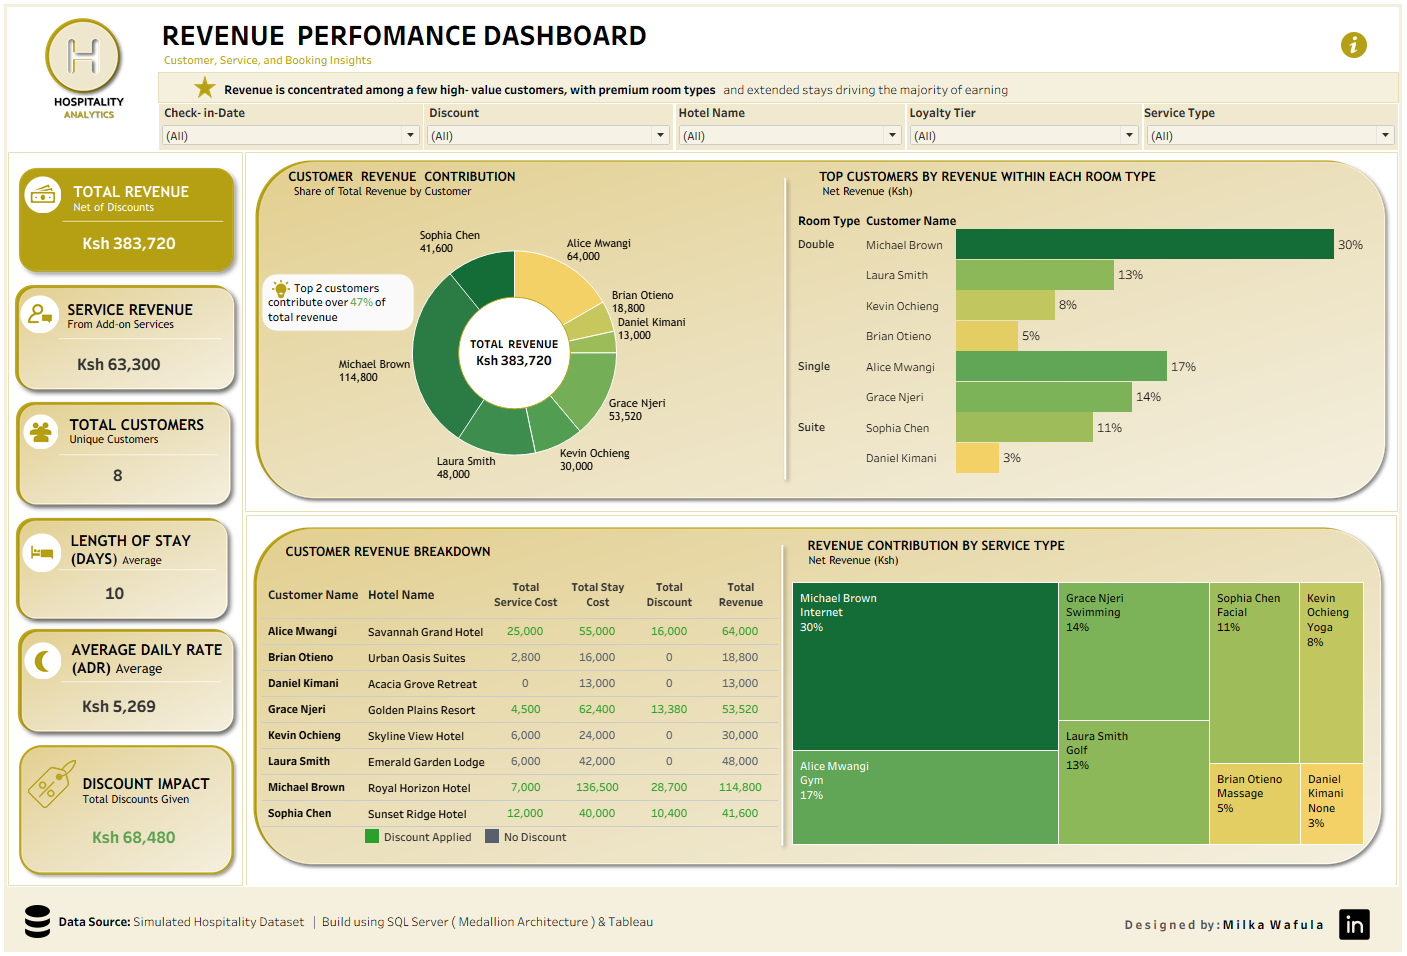

The dashboard page shown, as its layout file describes it:
{"tool":"tableau","page":{"name":"Hospitality Dashboard","canvas":[1400,950],"ordinal":1},"visuals":[{"type":"blank","box":[4,4,1392,64.6]},{"type":"text","box":[156,8,1155,61]},{"type":"image","param":"Image/Picture75678901.png","box":[12,13,148,111]},{"type":"worksheet","title":"Info Icon","mark":"Shape","box":[1321,15,60,53]},{"type":"blank","box":[154.8,68.6,1241.2,31.4]},{"type":"image","param":"Image/Picture45678901.png","box":[185,72,33,23]},{"type":"text","box":[167,75,1007,22]},{"type":"filter","title":"Billings","param":"[federated.0ehxdhk00tl66i1eyxm2z0nu6s2d].[md:check_in_date:ok]","box":[154.8,100,265.5,48]},{"type":"filter","title":"Billings","param":"[federated.0ehxdhk00tl66i1eyxm2z0nu6s2d].[none:Calculation_1594629248040964:nk]","box":[420.3,100,251.5,48]},{"type":"filter","title":"Billings","param":"[federated.0ehxdhk00tl66i1eyxm2z0nu6s2d].[none:hotel_name:nk]","box":[671.8,100,231.3,48]},{"type":"filter","title":"Billings","param":"[federated.0ehxdhk00tl66i1eyxm2z0nu6s2d].[none:loyalty_tier:nk]","box":[903.1,100,237.3,48]},{"type":"filter","title":"Billings","param":"[federated.0ehxdhk00tl66i1eyxm2z0nu6s2d].[none:service_type:nk]","box":[1140.5,100,255.6,48]},{"type":"blank","box":[4,117.2,150.8,30.9]},{"type":"image","param":"Image/Picture1221we.png","box":[250,142,1139,373]},{"type":"blank","box":[4,148,237.2,736.4]},{"type":"blank","box":[241.2,148,1154.8,361.6]},{"type":"image","param":"Image/0ok.png","box":[13,153,226,133]},{"type":"worksheet","title":"Final Distribution","mark":"Pie","cols":["Calculation_1399191675400195","Calculation_1399191675420677"],"box":[254,162,515,332]},{"type":"worksheet","title":"Room Type Rev","mark":"Automatic","rows":["room_type","customer_name"],"box":[789,162,595,308]},{"type":"image","param":"Image/45.png","box":[19,173,41,37]},{"type":"text","box":[68,173,152,45]},{"type":"worksheet","title":"Total Revenue","mark":"Automatic","box":[39,216,172,49]},{"type":"image","param":"Image/drth.png","box":[9,272,231,131]},{"type":"image","param":"Image/BMEW.svg","box":[264,275,29,22]},{"type":"image","param":"Image/458.png","box":[17,291,39,41]},{"type":"text","box":[62,291,172,44]},{"type":"worksheet","title":"Service Revenue","mark":"Automatic","box":[40,338,152,47]},{"type":"image","param":"Image/drth.png","box":[10,381,226,145]},{"type":"text","box":[64,403,166,50]},{"type":"image","param":"Image/Picture334568.png","box":[18,411,40,35]},{"type":"worksheet","title":"Total Guests","mark":"Automatic","box":[53,451,124,42]},{"type":"image","param":"Image/drth.png","box":[10,488,223,160]},{"type":"blank","box":[241.2,509.6,1154.8,374.9]},{"type":"text","box":[65,517,162,60]},{"type":"image","param":"Image/Picture1221we.png","box":[248,522,1137,417]},{"type":"image","param":"Image/Picture6569.png","box":[19,530,39,39]},{"type":"worksheet","title":"Service Type Rev","mark":"Automatic","box":[785,531,579,315]},{"type":"worksheet","title":"Billings","mark":"Automatic","rows":["customer_name","hotel_name"],"box":[259,537,516,287]},{"type":"worksheet","title":"AVG Stay days","mark":"Automatic","box":[50,569,125,43]},{"type":"image","param":"Image/drth.png","box":[12,601,227,158]},{"type":"text","box":[66,633,171,47]},{"type":"image","param":"Image/4512.png","box":[21,638,37,39]},{"type":"worksheet","title":"AVG Stay Rate","mark":"Automatic","box":[54,682,125,43]},{"type":"image","param":"Image/tyu68.png","box":[14,740,223,137]},{"type":"image","param":"Image/yuiokhsn.svg","box":[25,753,48,56]},{"type":"text","box":[77,755,149,65]},{"type":"worksheet","title":"DISCOUNTS","mark":"Automatic","box":[52,808,159,53]},{"type":"legend","title":"Billings","param":"[federated.0ehxdhk00tl66i1eyxm2z0nu6s2d].[none:Calculation_1594629248040964:nk]","box":[359,823,388,21]},{"type":"blank","box":[4,884.4,1392,61.6]},{"type":"text","box":[53,897,694,42]},{"type":"text","box":[1119,899,229,44]},{"type":"image","param":"Image/database-svgrepo-com.svg","box":[16,902,37,33]},{"type":"image","param":"Image/linkedin-logo-fill-svgrepo-com.svg","box":[1326,902,51,39]}]}

Visuals, with their boxes in screenshot pixels (x1, y1, x2, y2), scaled from the page's 1400x950 canvas onto the 1407x956 screenshot:
blank: <bbox>4, 4, 1403, 69</bbox>
text: <bbox>157, 8, 1318, 69</bbox>
image: <bbox>12, 13, 161, 125</bbox>
"Info Icon" worksheet (Shape marks): <bbox>1328, 15, 1388, 68</bbox>
blank: <bbox>156, 69, 1403, 101</bbox>
image: <bbox>186, 72, 219, 96</bbox>
text: <bbox>168, 75, 1180, 98</bbox>
"Billings" filter: <bbox>156, 101, 422, 149</bbox>
"Billings" filter: <bbox>422, 101, 675, 149</bbox>
"Billings" filter: <bbox>675, 101, 908, 149</bbox>
"Billings" filter: <bbox>908, 101, 1146, 149</bbox>
"Billings" filter: <bbox>1146, 101, 1403, 149</bbox>
blank: <bbox>4, 118, 156, 149</bbox>
image: <bbox>251, 143, 1396, 518</bbox>
blank: <bbox>4, 149, 242, 890</bbox>
blank: <bbox>242, 149, 1403, 513</bbox>
image: <bbox>13, 154, 240, 288</bbox>
"Final Distribution" worksheet (Pie marks): <bbox>255, 163, 773, 497</bbox>
"Room Type Rev" worksheet: <bbox>793, 163, 1391, 473</bbox>
image: <bbox>19, 174, 60, 211</bbox>
text: <bbox>68, 174, 221, 219</bbox>
"Total Revenue" worksheet: <bbox>39, 217, 212, 267</bbox>
image: <bbox>9, 274, 241, 406</bbox>
image: <bbox>265, 277, 294, 299</bbox>
image: <bbox>17, 293, 56, 334</bbox>
text: <bbox>62, 293, 235, 337</bbox>
"Service Revenue" worksheet: <bbox>40, 340, 193, 387</bbox>
image: <bbox>10, 383, 237, 529</bbox>
text: <bbox>64, 406, 231, 456</bbox>
image: <bbox>18, 414, 58, 449</bbox>
"Total Guests" worksheet: <bbox>53, 454, 178, 496</bbox>
image: <bbox>10, 491, 234, 652</bbox>
blank: <bbox>242, 513, 1403, 890</bbox>
text: <bbox>65, 520, 228, 581</bbox>
image: <bbox>249, 525, 1392, 945</bbox>
image: <bbox>19, 533, 58, 573</bbox>
"Service Type Rev" worksheet: <bbox>789, 534, 1371, 851</bbox>
"Billings" worksheet: <bbox>260, 540, 779, 829</bbox>
"AVG Stay days" worksheet: <bbox>50, 573, 176, 616</bbox>
image: <bbox>12, 605, 240, 764</bbox>
text: <bbox>66, 637, 238, 684</bbox>
image: <bbox>21, 642, 58, 681</bbox>
"AVG Stay Rate" worksheet: <bbox>54, 686, 180, 730</bbox>
image: <bbox>14, 745, 238, 883</bbox>
image: <bbox>25, 758, 73, 814</bbox>
text: <bbox>77, 760, 227, 825</bbox>
"DISCOUNTS" worksheet: <bbox>52, 813, 212, 866</bbox>
"Billings" legend: <bbox>361, 828, 751, 849</bbox>
blank: <bbox>4, 890, 1403, 952</bbox>
text: <bbox>53, 903, 751, 945</bbox>
text: <bbox>1125, 905, 1355, 949</bbox>
image: <bbox>16, 908, 53, 941</bbox>
image: <bbox>1333, 908, 1384, 947</bbox>
